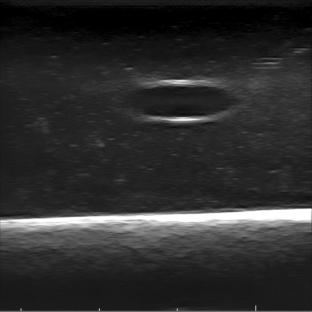vessel: (127, 79, 237, 123)
